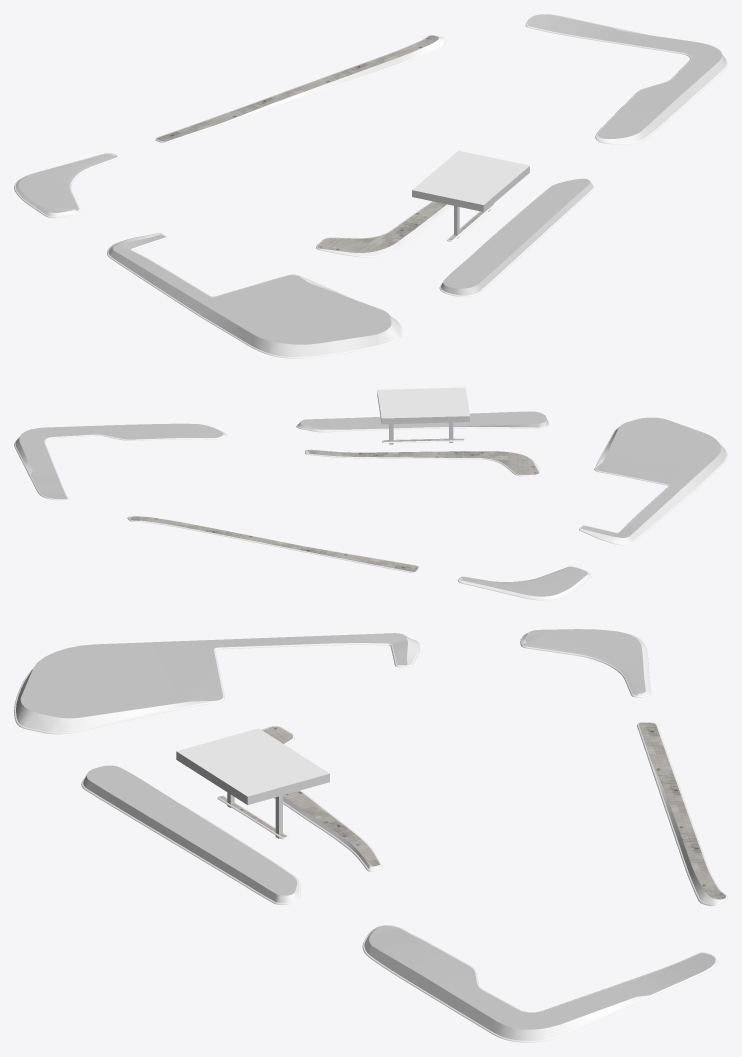
The model's file is truckDepotRoadRef.dae.
The picture shows the model from 3 angles, top to bottom: view 1: azimuth 30°, elevation 25°; view 2: azimuth 150°, elevation 25°; view 3: azimuth 270°, elevation 25°; orthographic projection. The views are drawn at different scales.
Parts seen in each view (by area): view 1: sidewalk_distribution_a2000.001; view 2: sidewalk_distribution_a2000.001; view 3: sidewalk_distribution_a2000.001.
Boxes of the visible parts, box(x1,y1,x2,y2) form: sidewalk_distribution_a2000.001: box(14, 14, 727, 358); sidewalk_distribution_a2000.001: box(14, 387, 727, 600); sidewalk_distribution_a2000.001: box(14, 629, 727, 1042).
Bounding box in the file's own units: 103 × 76.09 × 7.55.
